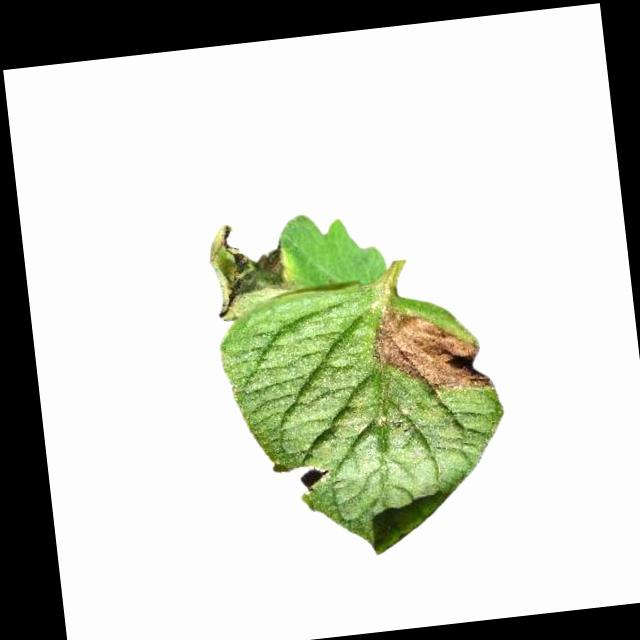Late_blight: (368, 291, 498, 401), (205, 219, 296, 323)
